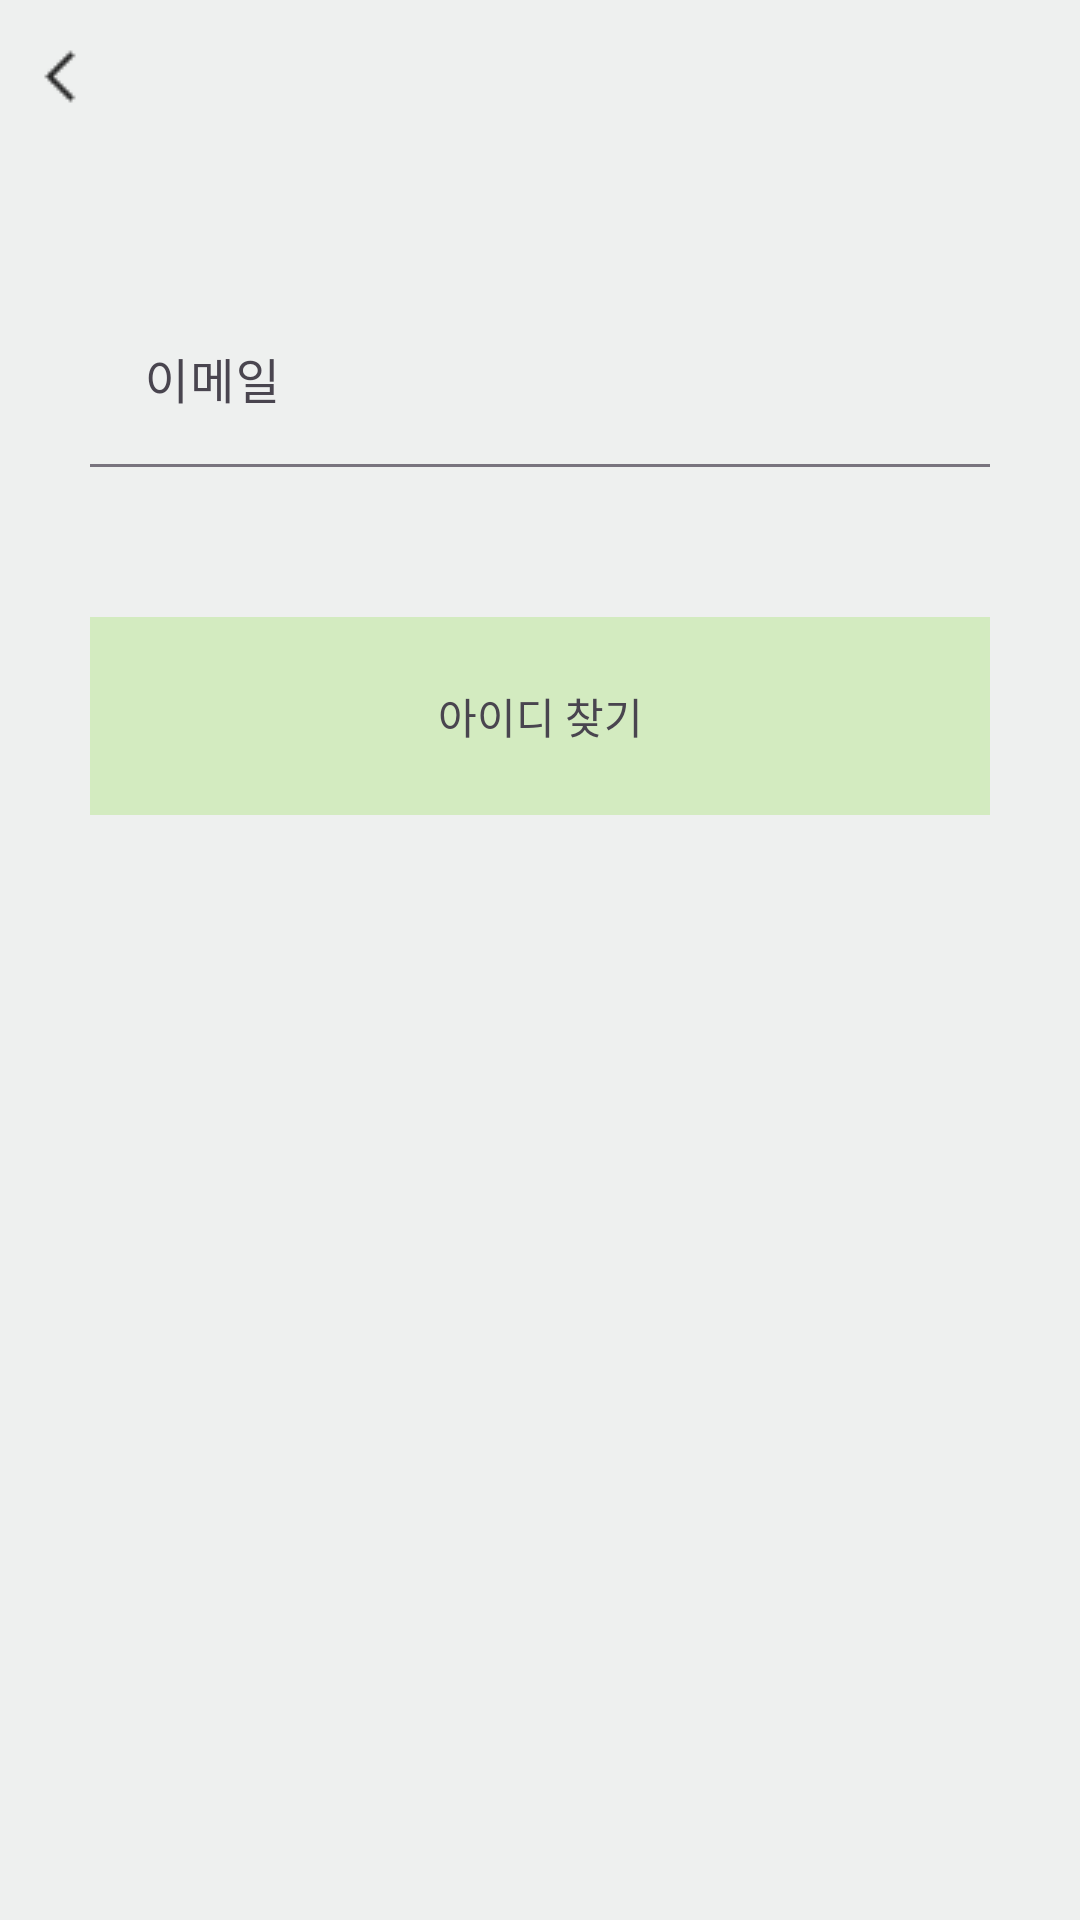

Named icons in this screenshot (1080x1920) and their centers, (x,y):
back arrow: (60,76)
